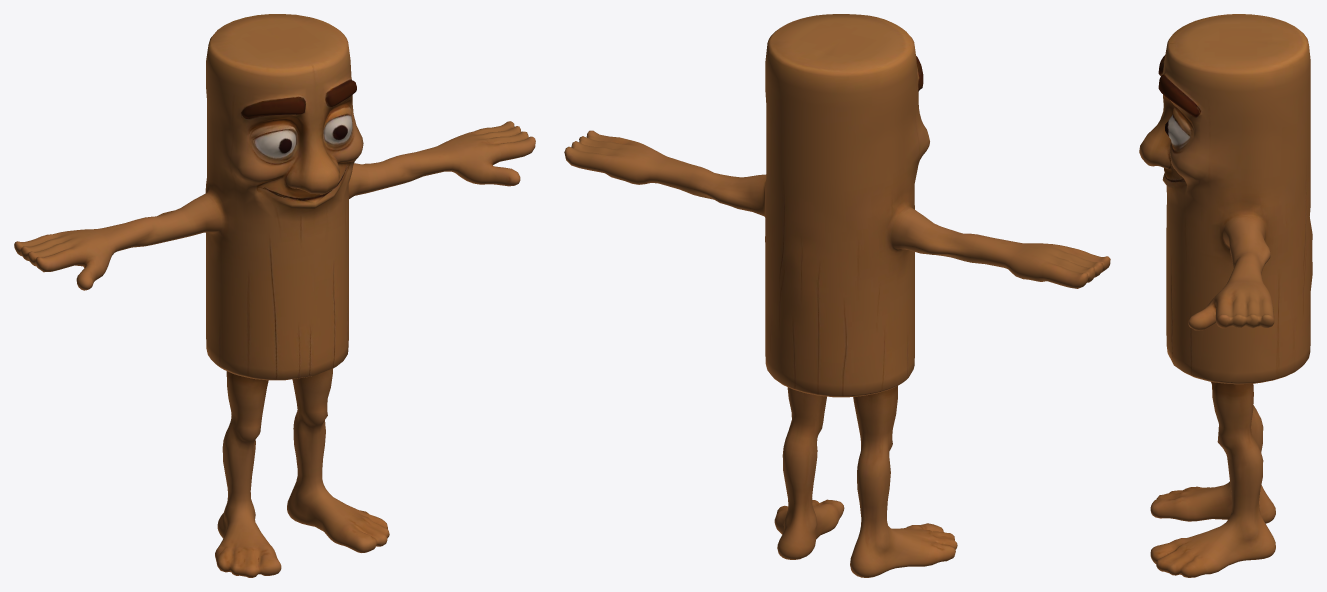
The model's file is tung.glb.
The picture shows the model from 3 angles, left to right: view 1: azimuth 30°, elevation 25°; view 2: azimuth 150°, elevation 25°; view 3: azimuth 270°, elevation 25°; orthographic projection. The views are drawn at different scales.
Parts seen in each view (by area): view 1: texture_pbr_v128.001_low; view 2: texture_pbr_v128.001_low; view 3: texture_pbr_v128.001_low.
Boxes of the visible parts, x1,y1,x2,y2 form: texture_pbr_v128.001_low: [14, 14, 535, 577]; texture_pbr_v128.001_low: [564, 14, 1110, 577]; texture_pbr_v128.001_low: [1139, 14, 1312, 577].
Size of the model in its own units: 1.12 by 1.06 by 0.3347.
1 material, 1 textured.
